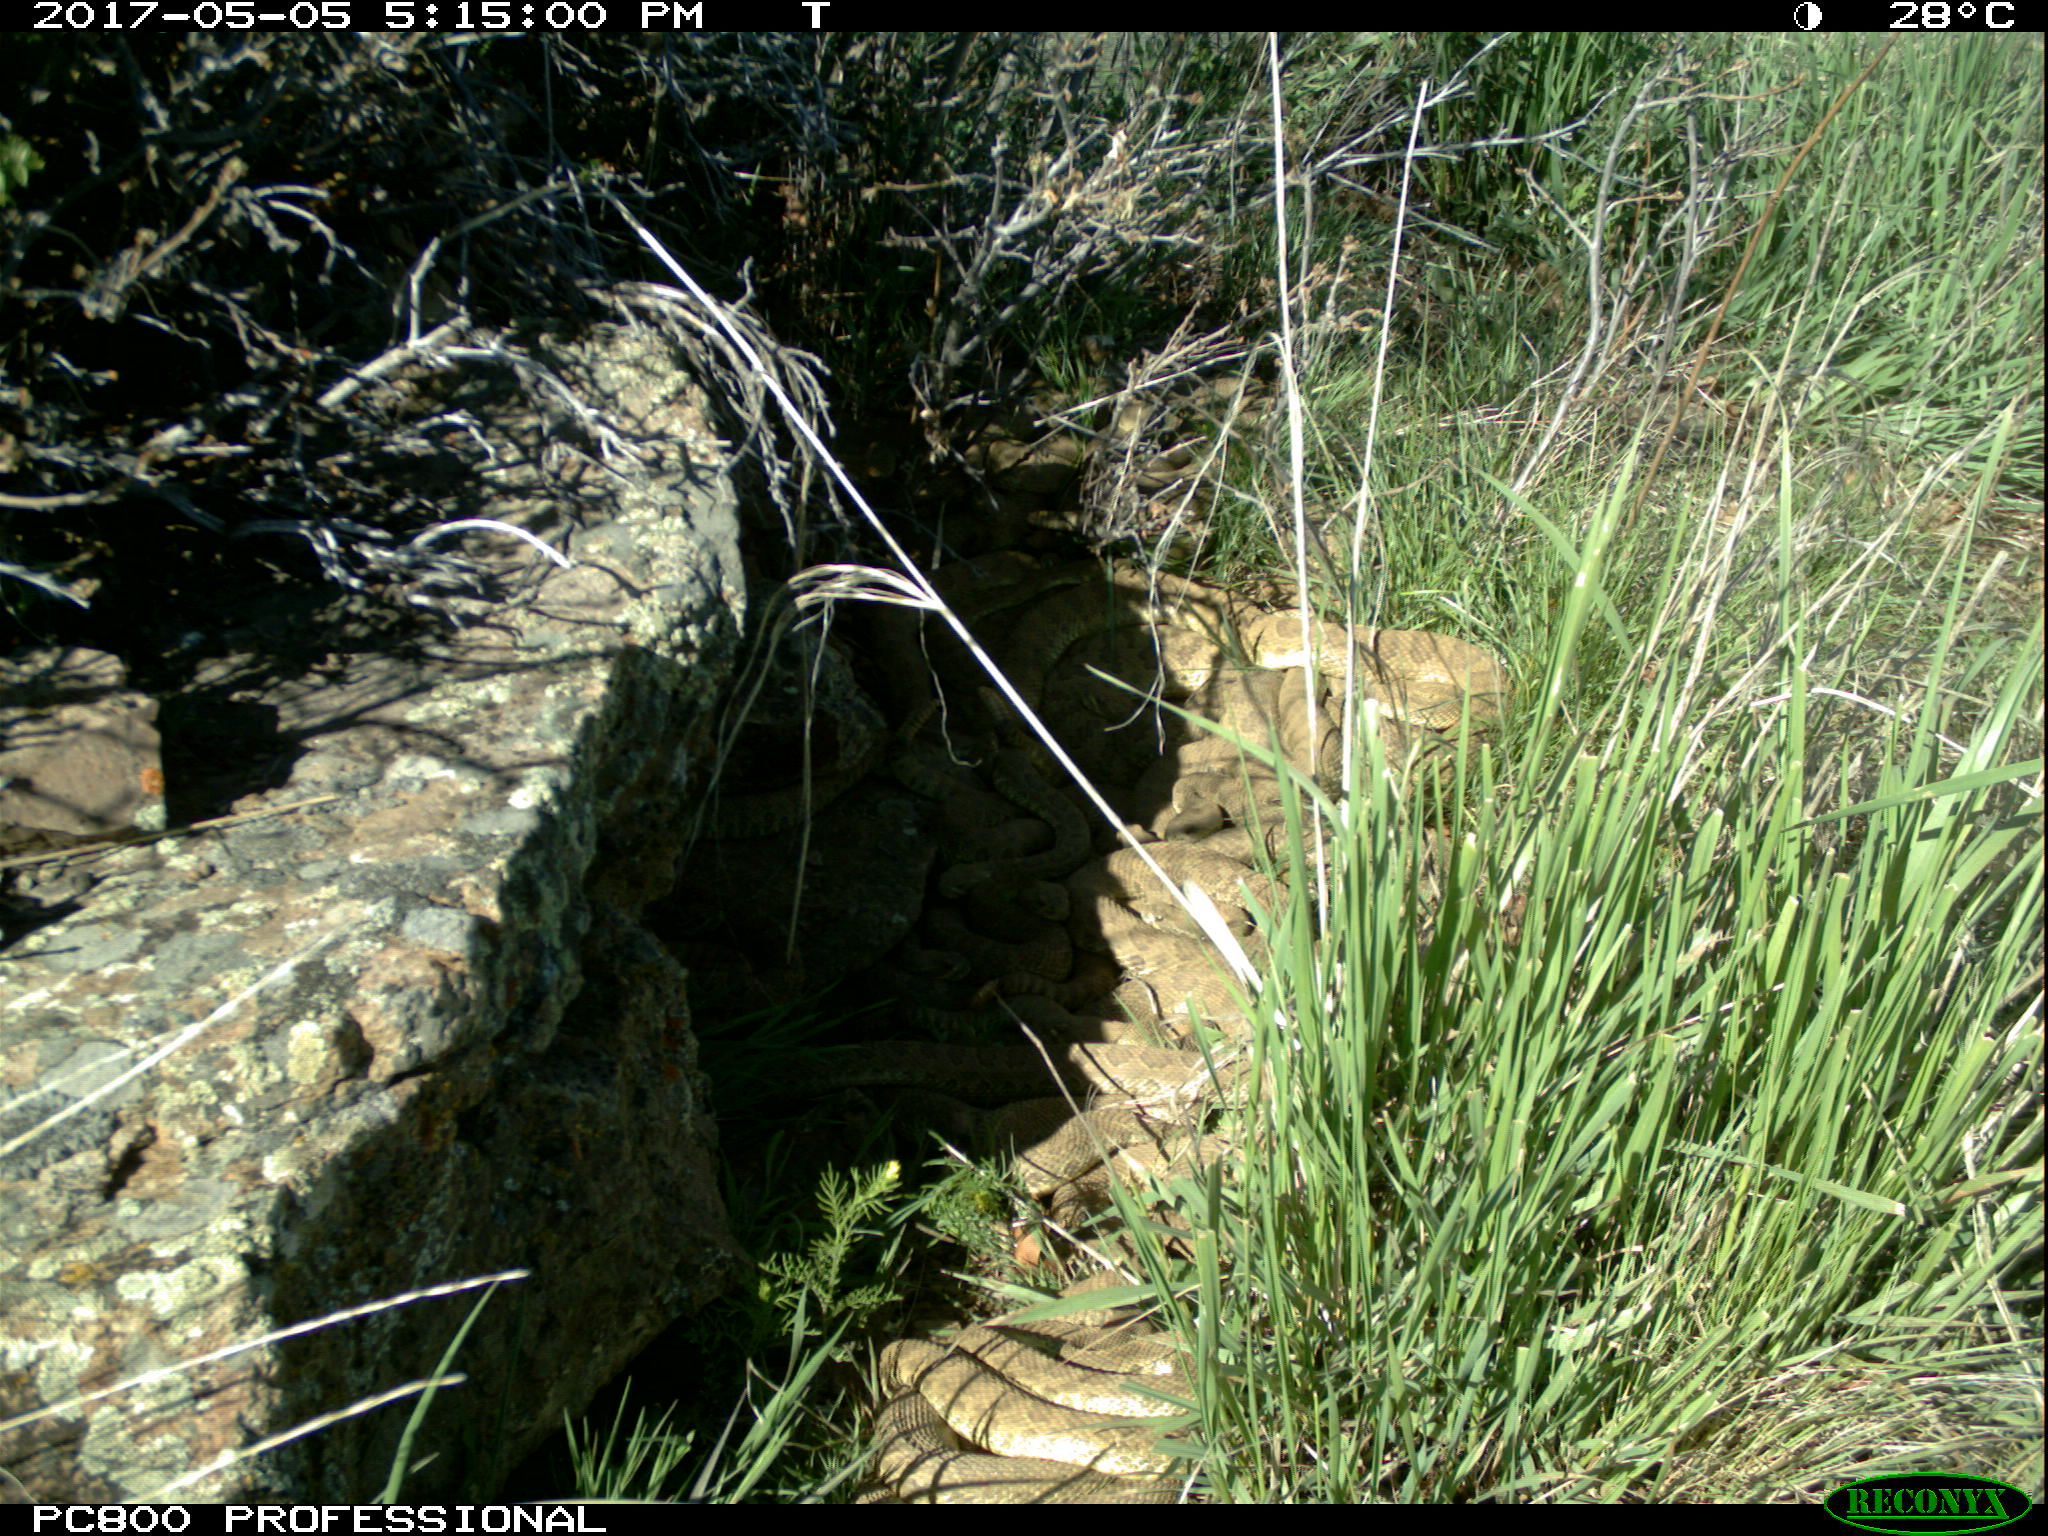snake: (1084, 597, 1506, 824), (719, 734, 1063, 995), (731, 1015, 1269, 1170), (842, 1288, 1222, 1502), (880, 541, 1248, 724), (1058, 829, 1298, 1015)
